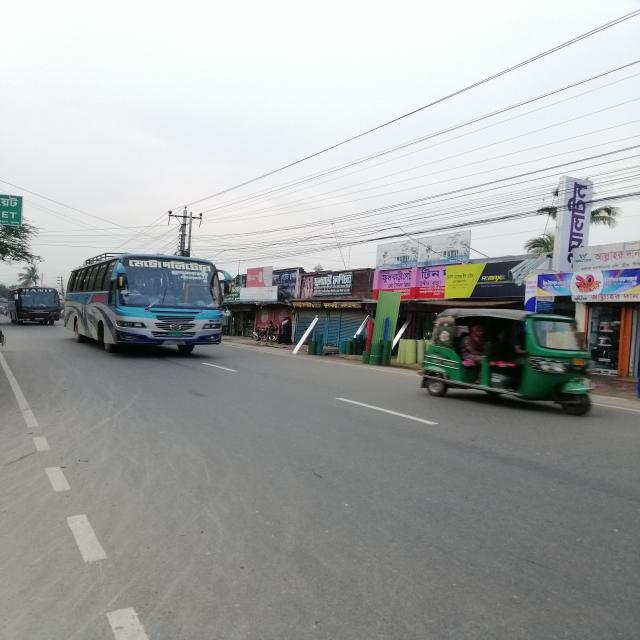Bus: (64, 254, 253, 359)
CNG: (417, 304, 602, 415)
